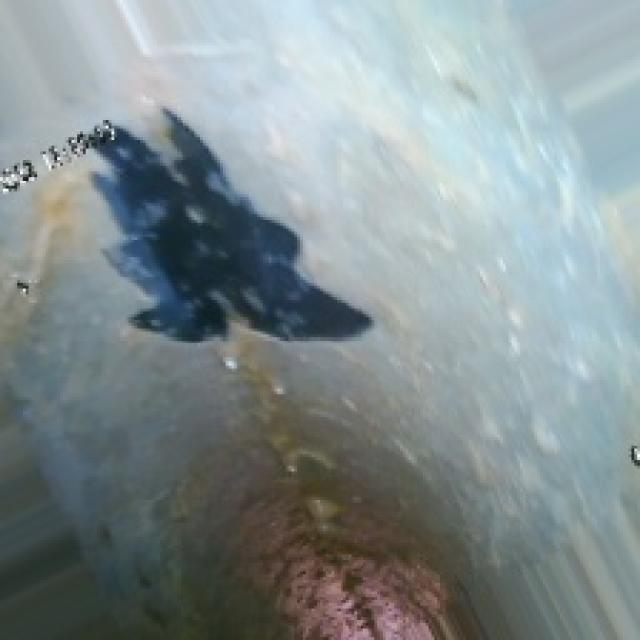pipe_surface_damage: (74, 103, 380, 343)
